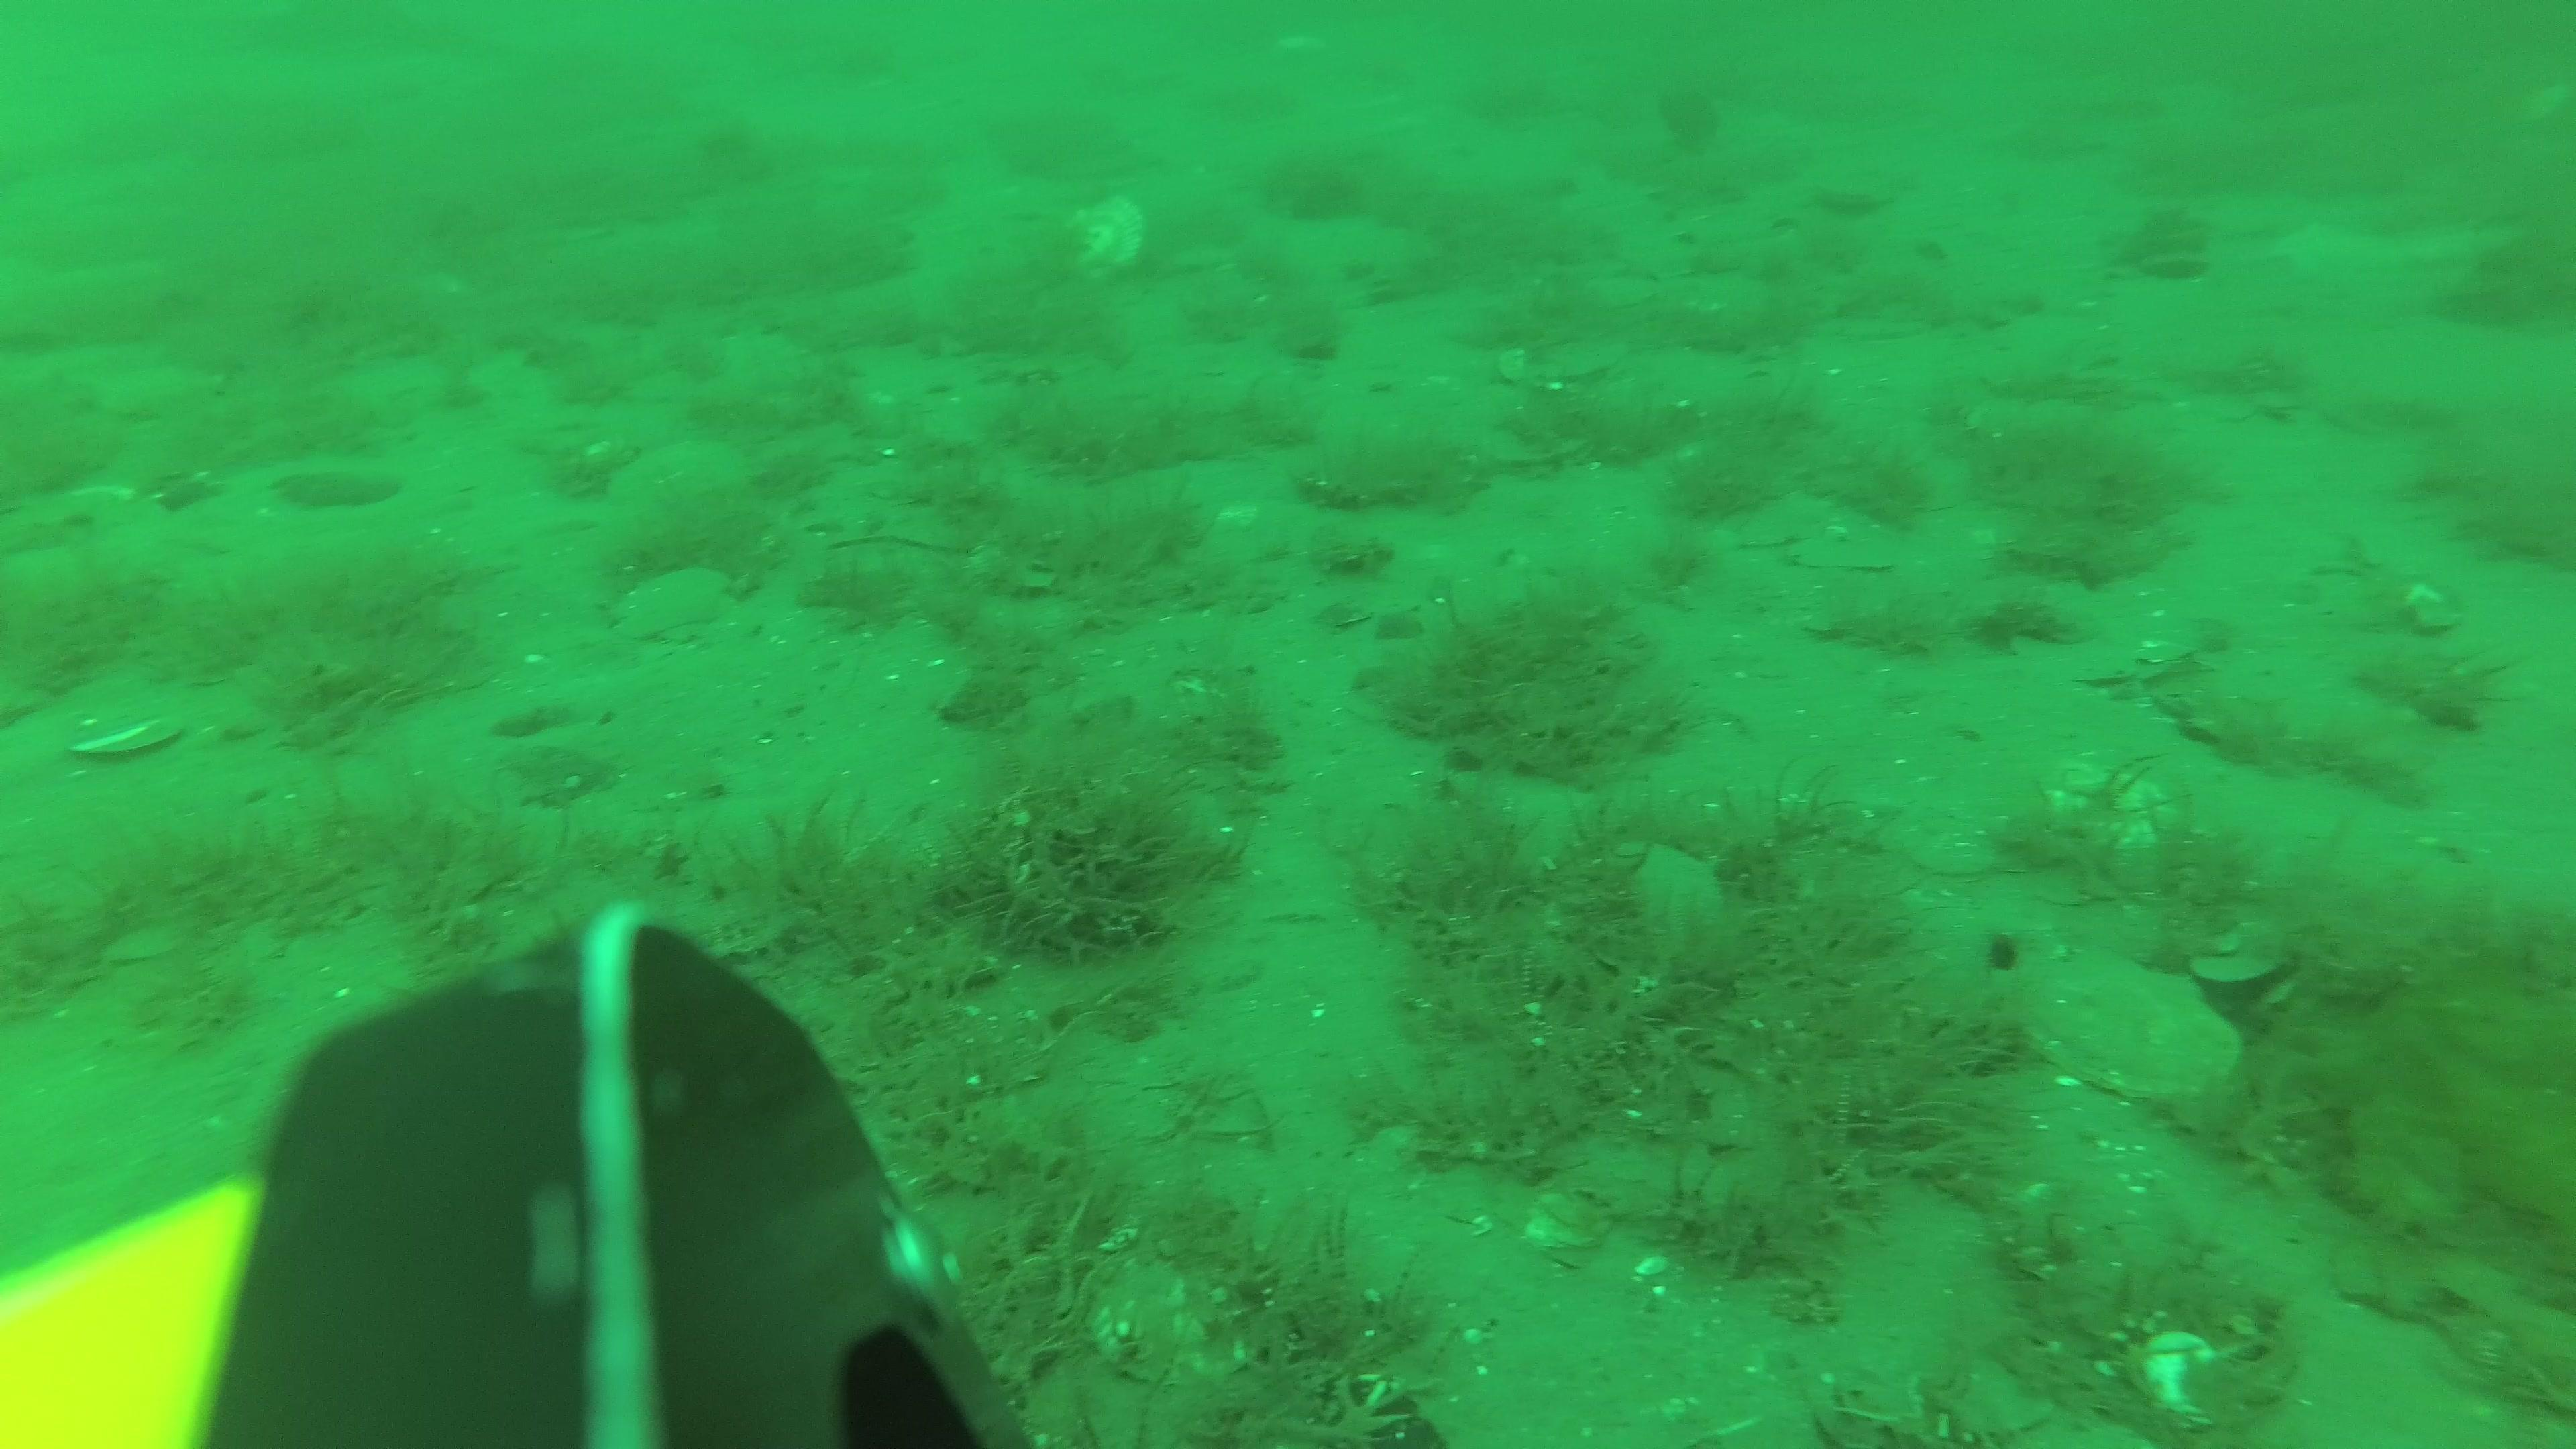scallop: (2020, 941, 2242, 1104), (2042, 754, 2181, 858), (616, 573, 727, 646), (1062, 193, 1146, 280)
